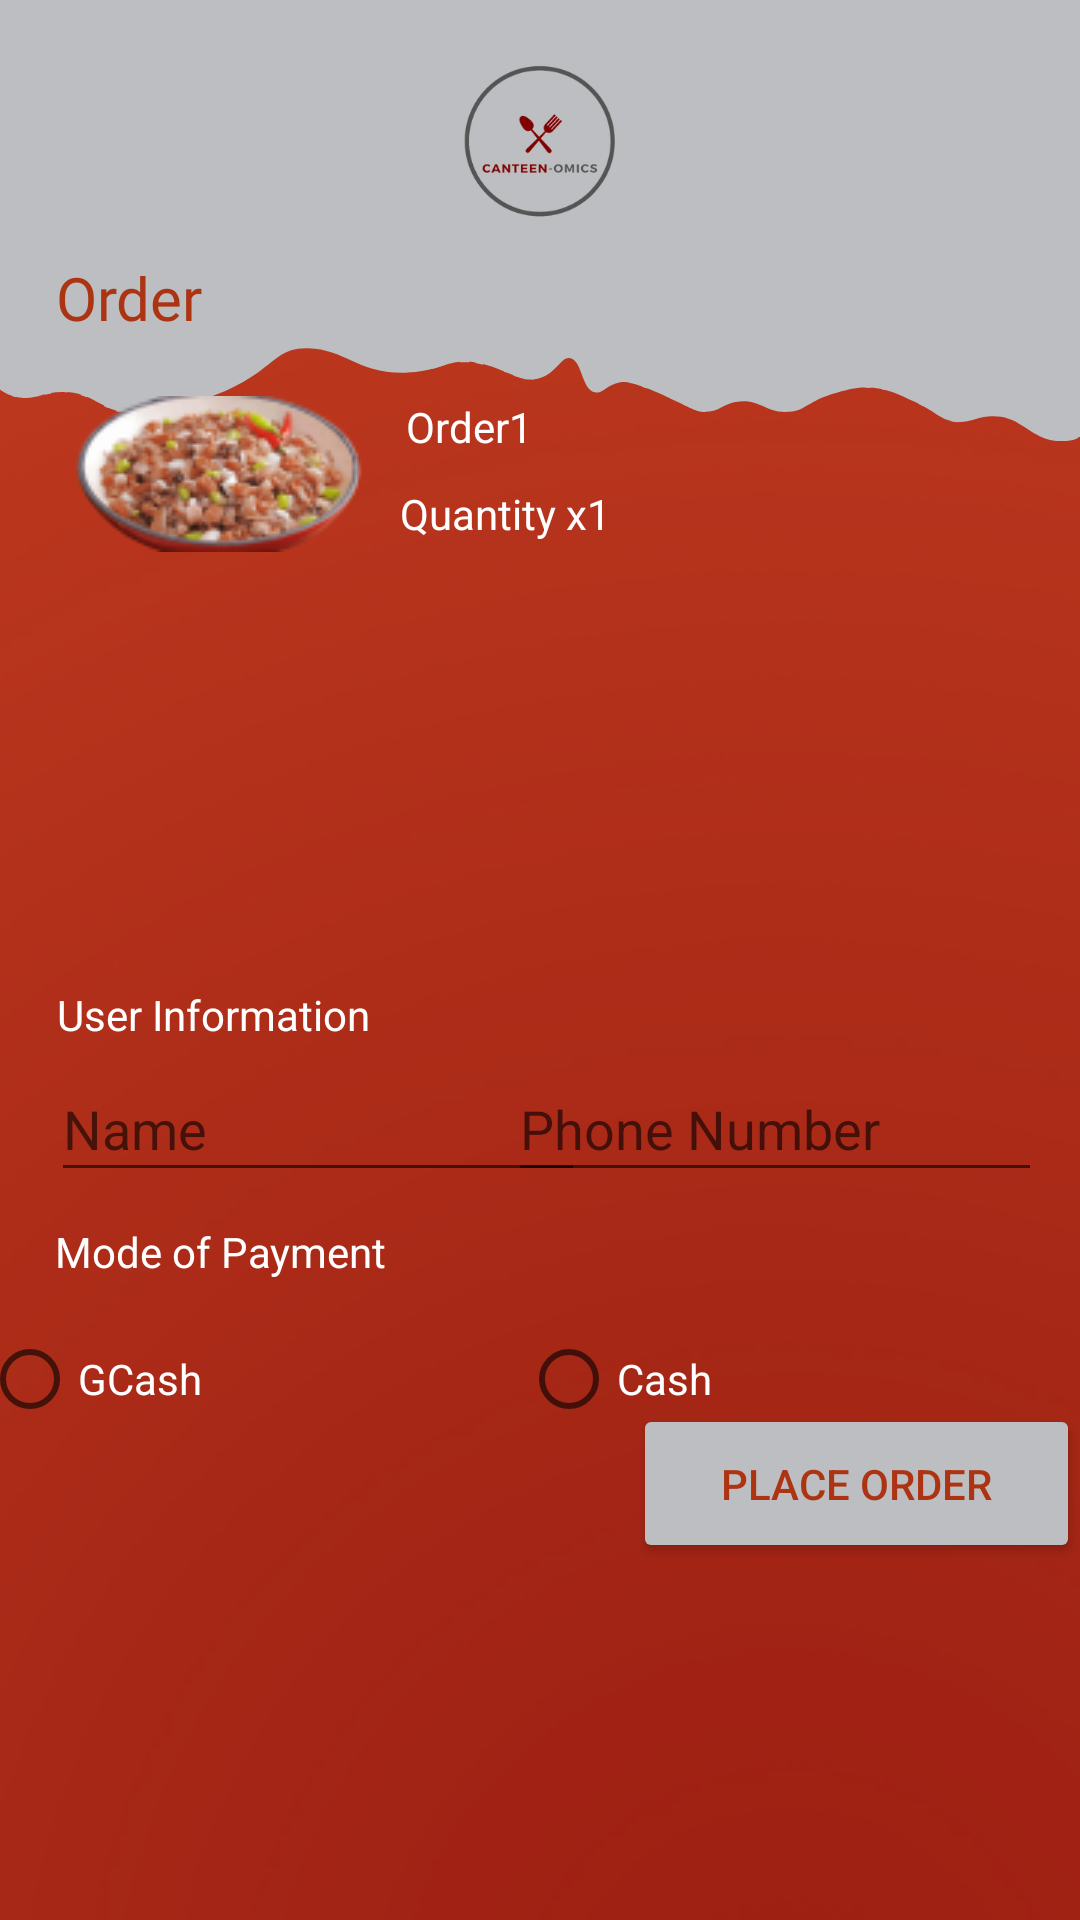

Where icons sit on this 1080w x 1920h app screen, as (x1, y1, x2, y2):
sisiig: (76, 396, 361, 552)
